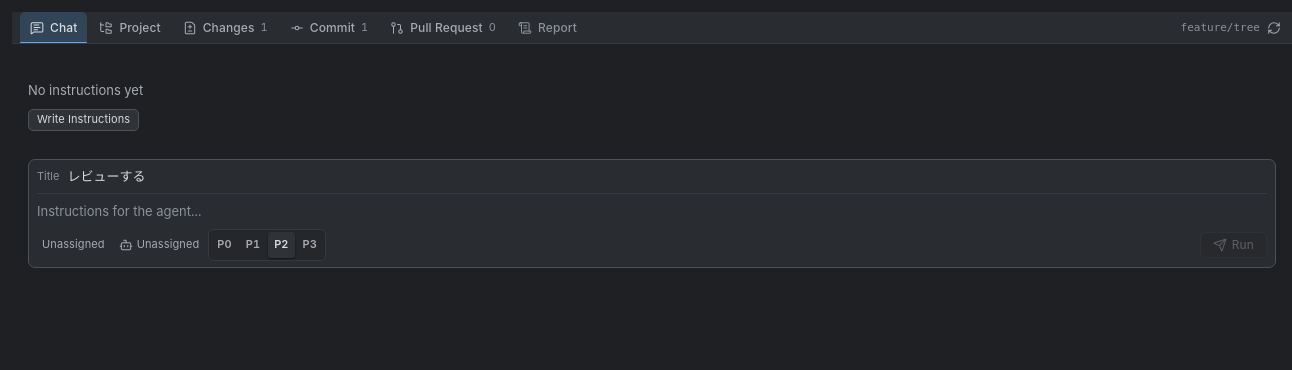
Test: the workbench display state › does not reopen a closed branch of the project tree on a re-render
The width and height of the screenshot is (1292, 370).
Click the tab "Changes 1" at (225, 28), box x1=173 y1=12 x2=278 y2=44
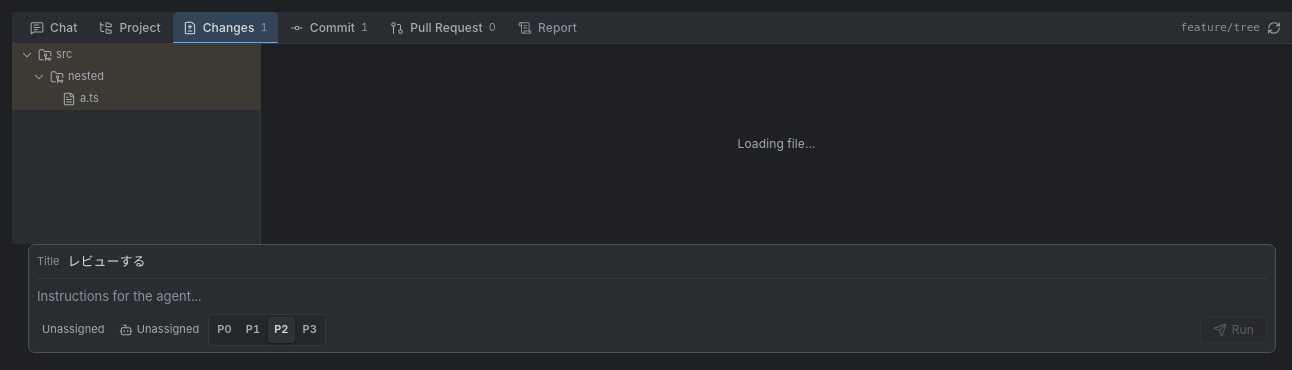
Click the list item "src" at (136, 55), box x1=12 y1=44 x2=260 y2=66
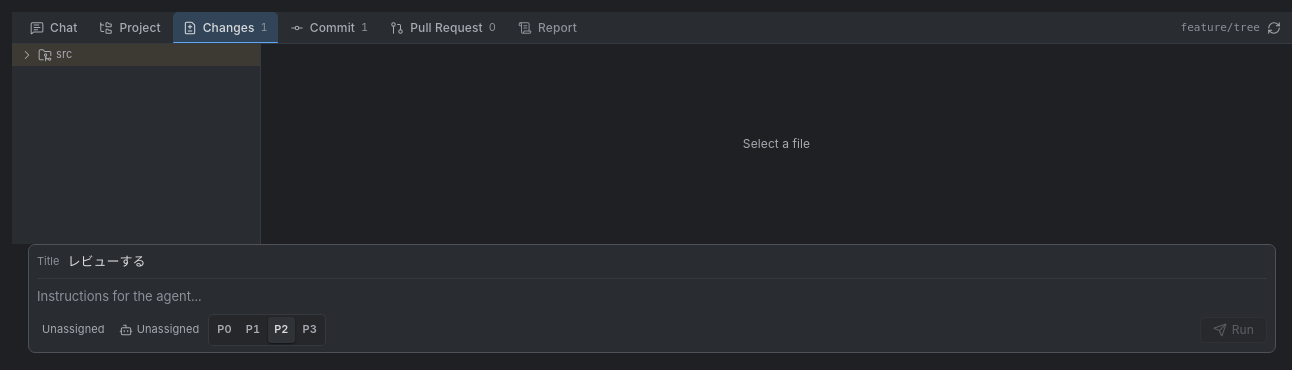
Now the list item "src" is collapsed, box x1=12 y1=44 x2=260 y2=66
Click the tab "Commit 1" at (329, 28), box x1=280 y1=12 x2=378 y2=44
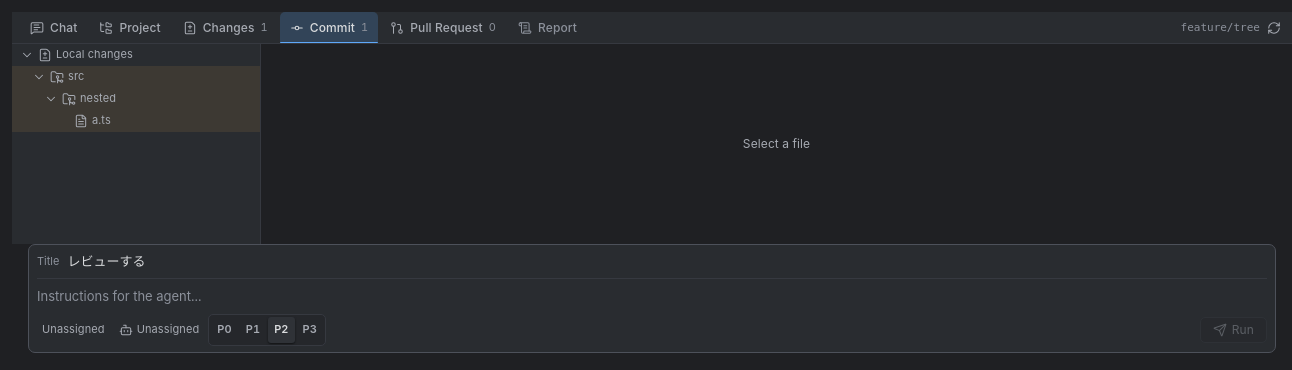
Now the text "Local changes" is shown, box x1=56 y1=47 x2=133 y2=61
